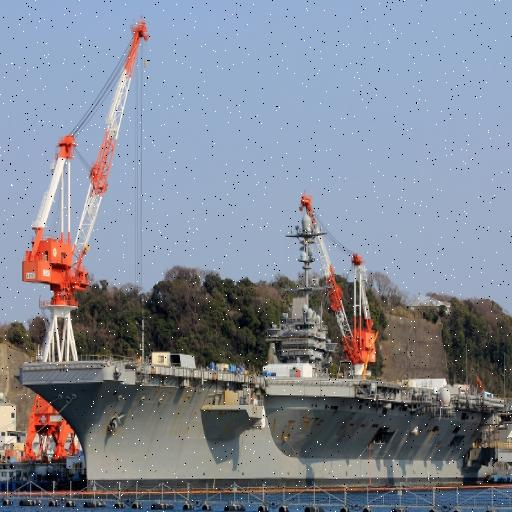Portanaves: (11, 293, 512, 506)
